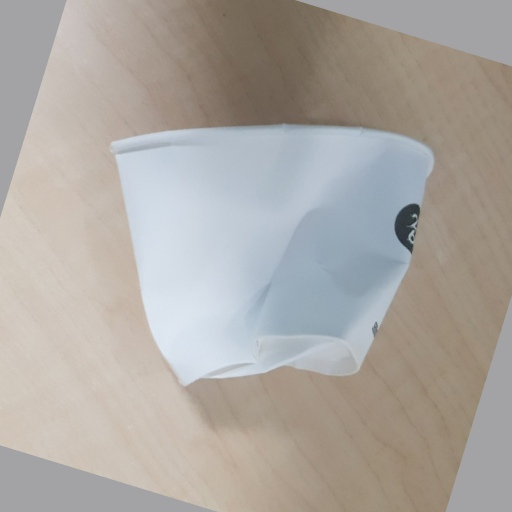Paper_1: (110, 118, 437, 382)
